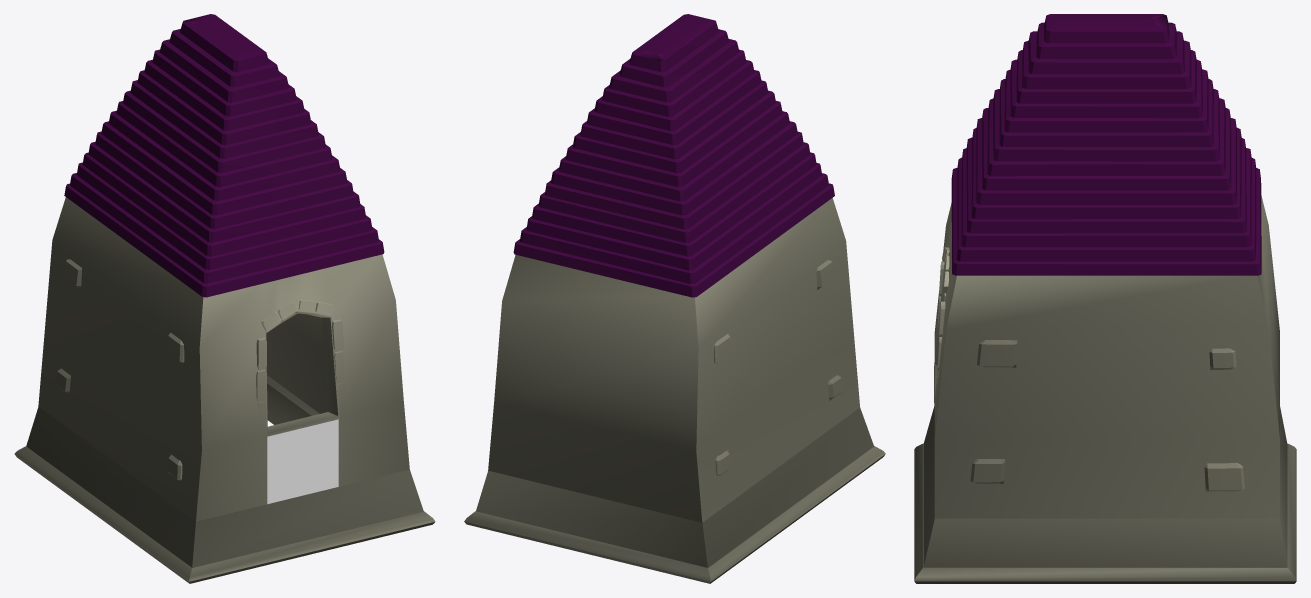
The model's file is tomb tall.fbx.
3 renders of one model, left to right at view 1: azimuth 30°, elevation 25°; view 2: azimuth 150°, elevation 25°; view 3: azimuth 270°, elevation 25°, orthographic. The views are drawn at different scales.
Visible parts, largest first — view 1: carcass.001, roof.001, base.001, window.001; view 2: carcass.001, roof.001, base.001; view 3: carcass.001, roof.001, base.001.
Part boxes in pixels (x1=…): carcass.001: x1=38, y1=197, x2=409, y2=521; roof.001: x1=64, y1=14, x2=384, y2=297; base.001: x1=14, y1=375, x2=435, y2=583; window.001: x1=265, y1=311, x2=339, y2=436; carcass.001: x1=488, y1=198, x2=859, y2=522; roof.001: x1=513, y1=14, x2=834, y2=297; base.001: x1=464, y1=407, x2=885, y2=583; carcass.001: x1=934, y1=195, x2=1279, y2=518; roof.001: x1=951, y1=14, x2=1261, y2=275; base.001: x1=914, y1=405, x2=1296, y2=583.
Size of the model in its own units: 639 by 1124 by 784.
